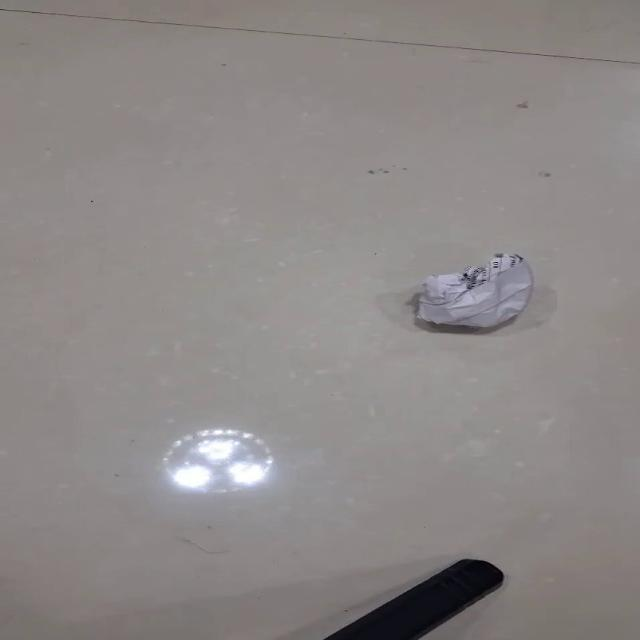paper: (414, 252, 534, 328)
